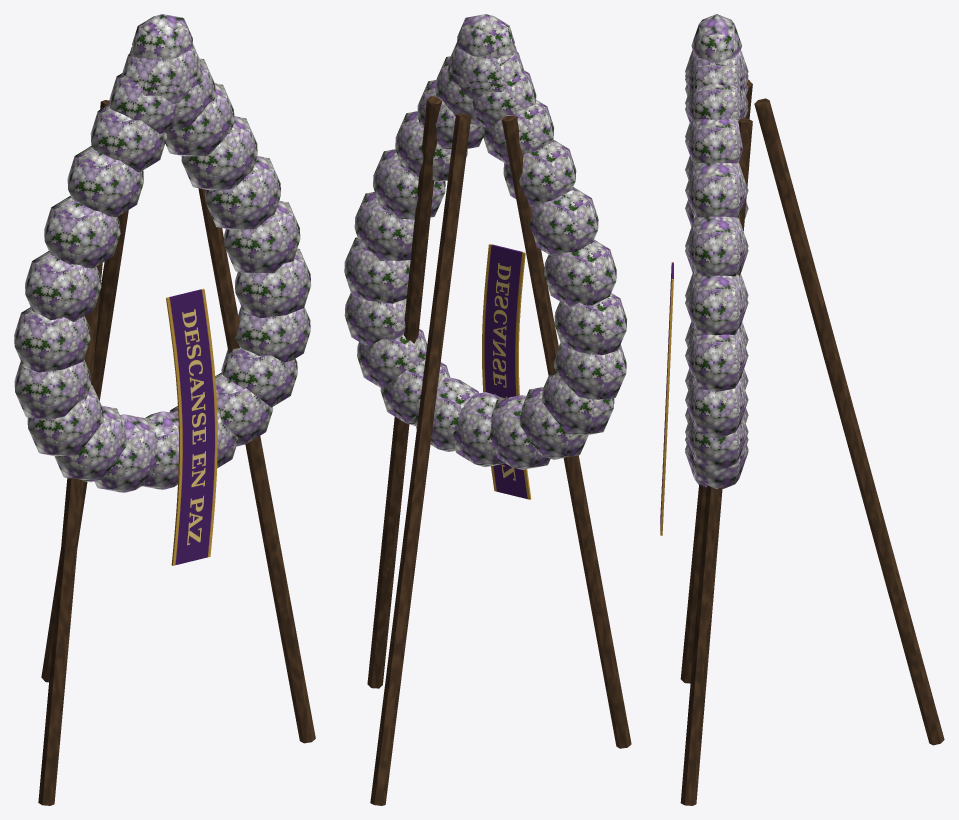
The model's file is corona_lagrima.obj.
3 renders of one model, left to right at view 1: azimuth 30°, elevation 25°; view 2: azimuth 150°, elevation 25°; view 3: azimuth 270°, elevation 25°, orthographic. The views are drawn at different scales.
Parts seen in each view (by area): view 1: Liston, Cylinder.001, Cylinder, Flores.019, Flores.018, Flores.020, Flores.017, Flores.006, Flores.005, Flores.007, Flores.016, Flores.004 (+16 smaller); view 2: Cylinder.002, Cylinder, Cylinder.001, Liston, Flores.018, Flores.019, Flores.017, Flores.016, Flores.020, Flores.007, Flores.006, Flores.005 (+16 smaller); view 3: Cylinder.002, Cylinder.001, Flores.005, Flores.006, Flores.007, Flores.004, Flores.008, Flores.003, Cylinder, Flores.002, Flores.009, Flores.024 (+4 smaller).
Part boxes in pixels (bbox=[...]): Liston: bbox=[166, 288, 217, 565]; Cylinder.001: bbox=[198, 188, 315, 743]; Cylinder: bbox=[38, 100, 109, 805]; Flores.019: bbox=[44, 196, 120, 268]; Flores.018: bbox=[25, 251, 101, 321]; Flores.020: bbox=[67, 146, 143, 217]; Flores.017: bbox=[14, 307, 90, 372]; Flores.006: bbox=[224, 201, 300, 273]; Flores.005: bbox=[205, 156, 280, 230]; Flores.007: bbox=[234, 248, 311, 318]; Flores.016: bbox=[14, 359, 90, 418]; Flores.004: bbox=[181, 116, 257, 190]; Cylinder.002: bbox=[370, 113, 471, 805]; Cylinder: bbox=[501, 115, 631, 748]; Cylinder.001: bbox=[367, 96, 442, 688]; Liston: bbox=[482, 244, 531, 499]; Flores.018: bbox=[544, 239, 616, 306]; Flores.019: bbox=[529, 187, 598, 256]; Flores.017: bbox=[554, 293, 626, 354]; Flores.016: bbox=[554, 343, 626, 399]; Flores.020: bbox=[503, 139, 576, 207]; Flores.007: bbox=[344, 237, 410, 303]; Flores.006: bbox=[354, 192, 414, 260]; Flores.005: bbox=[373, 149, 445, 219]; Cylinder.002: bbox=[754, 98, 944, 745]; Cylinder.001: bbox=[680, 118, 752, 805]; Flores.005: bbox=[685, 216, 748, 276]; Flores.006: bbox=[685, 274, 748, 335]; Flores.007: bbox=[685, 328, 748, 391]; Flores.004: bbox=[685, 162, 748, 217]; Flores.008: bbox=[685, 378, 748, 439]; Flores.003: bbox=[685, 118, 743, 165]; Cylinder: bbox=[680, 80, 752, 683]; Flores.002: bbox=[685, 84, 748, 121]; Flores.009: bbox=[685, 416, 748, 471]; Flores.024: bbox=[691, 14, 741, 62].
Bounding box in the file's own units: 0.589 × 1.42 × 0.5036.
3 materials, 3 textured.
